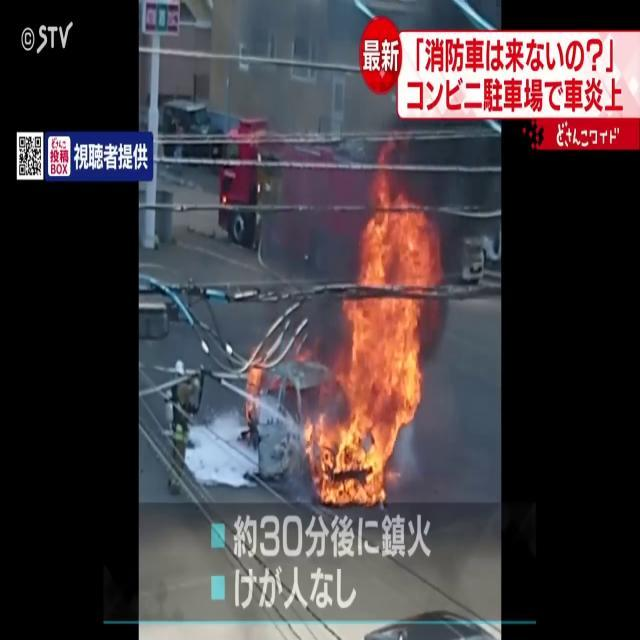Fire: (306, 156, 445, 504)
